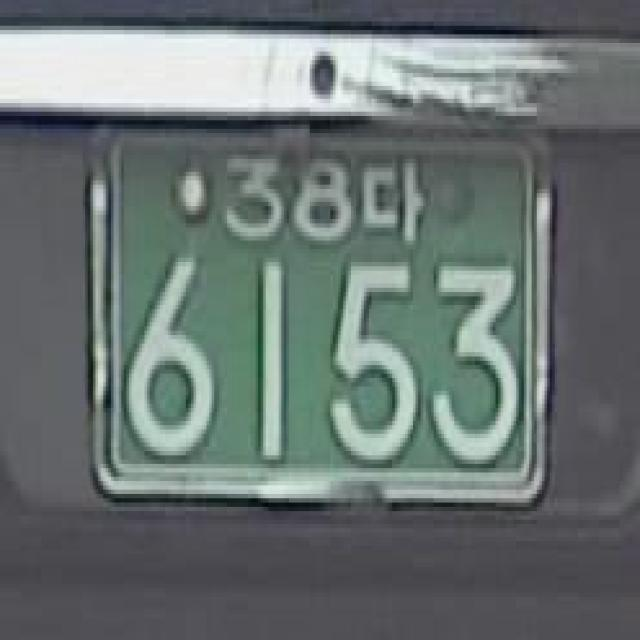illegal_plate: (78, 102, 567, 536)
